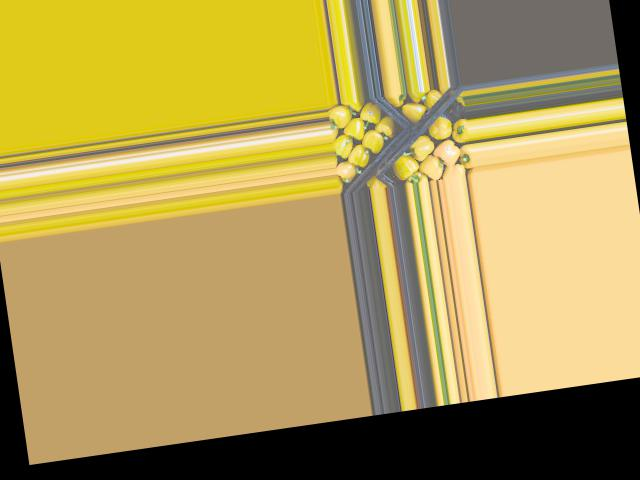bell_pepper: (327, 100, 357, 126)
